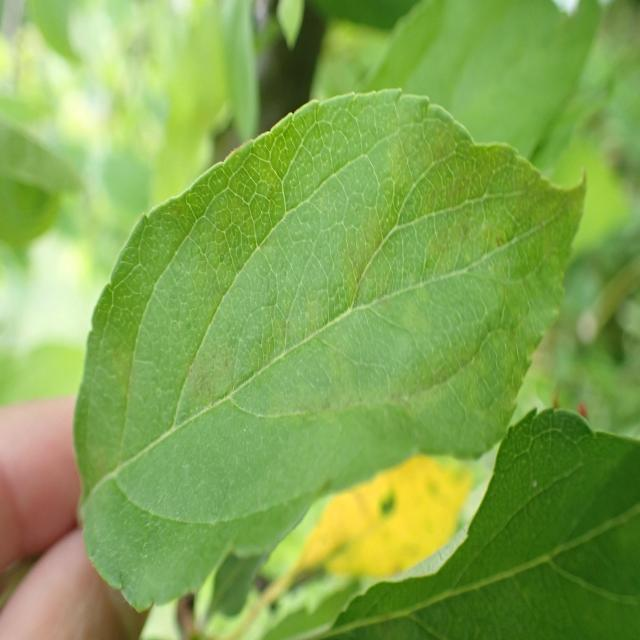scab: (40, 122, 582, 462)
